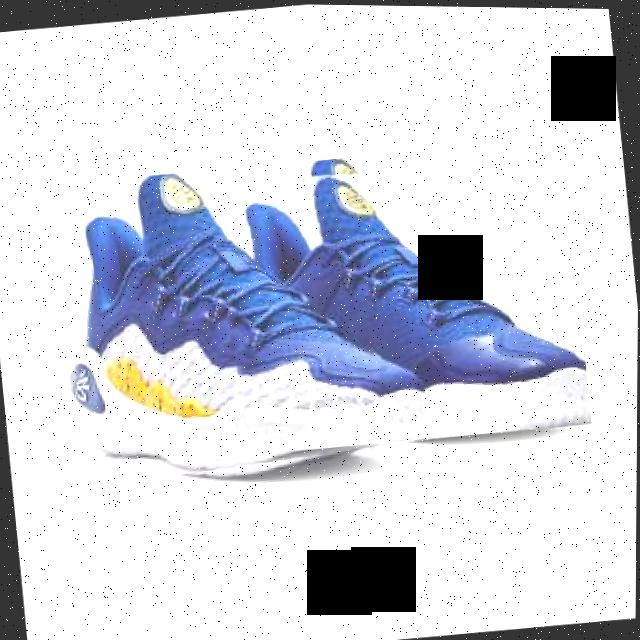shoe: (41, 149, 419, 493), (203, 141, 594, 459)
